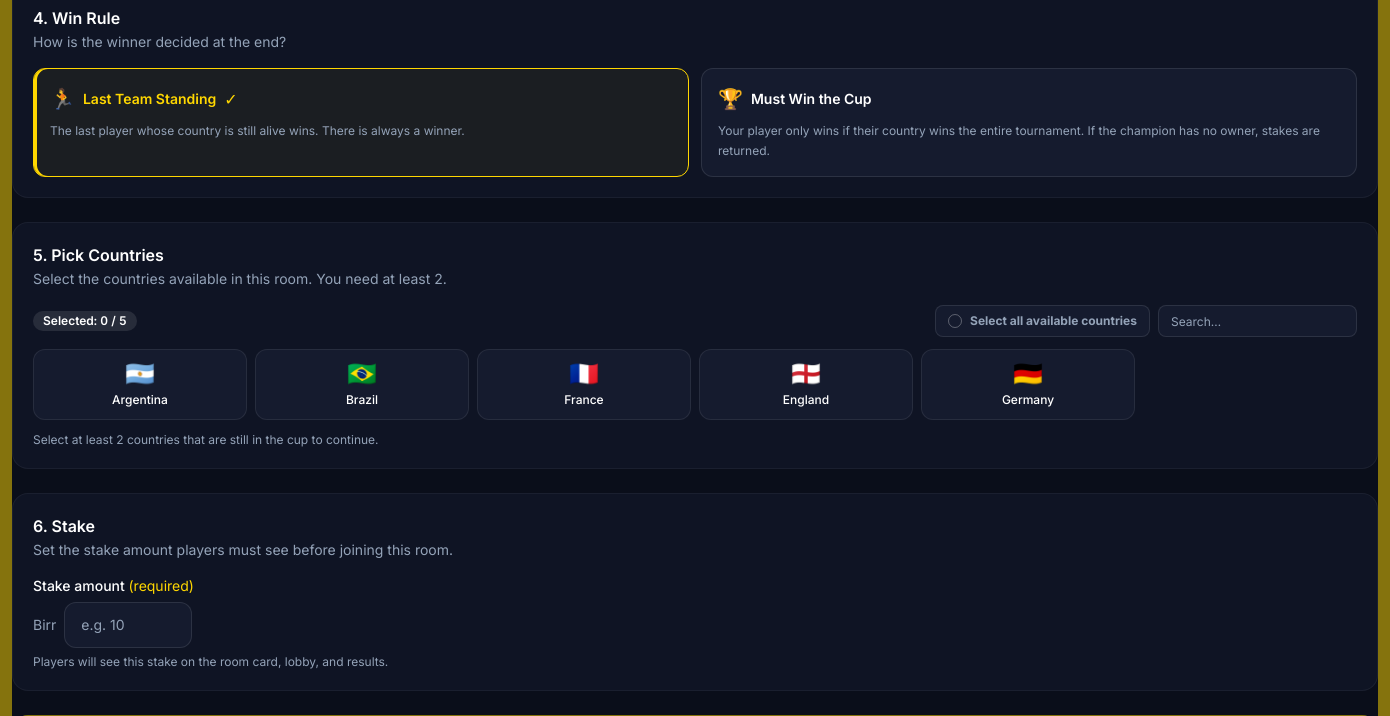
CreateRoomForm › selecting and deselecting a country updates the counter
(page scrolled)
Click the checkbox with test id "country-card-ARG" at {"x": 140, "y": 384}, box [33, 349, 247, 420]
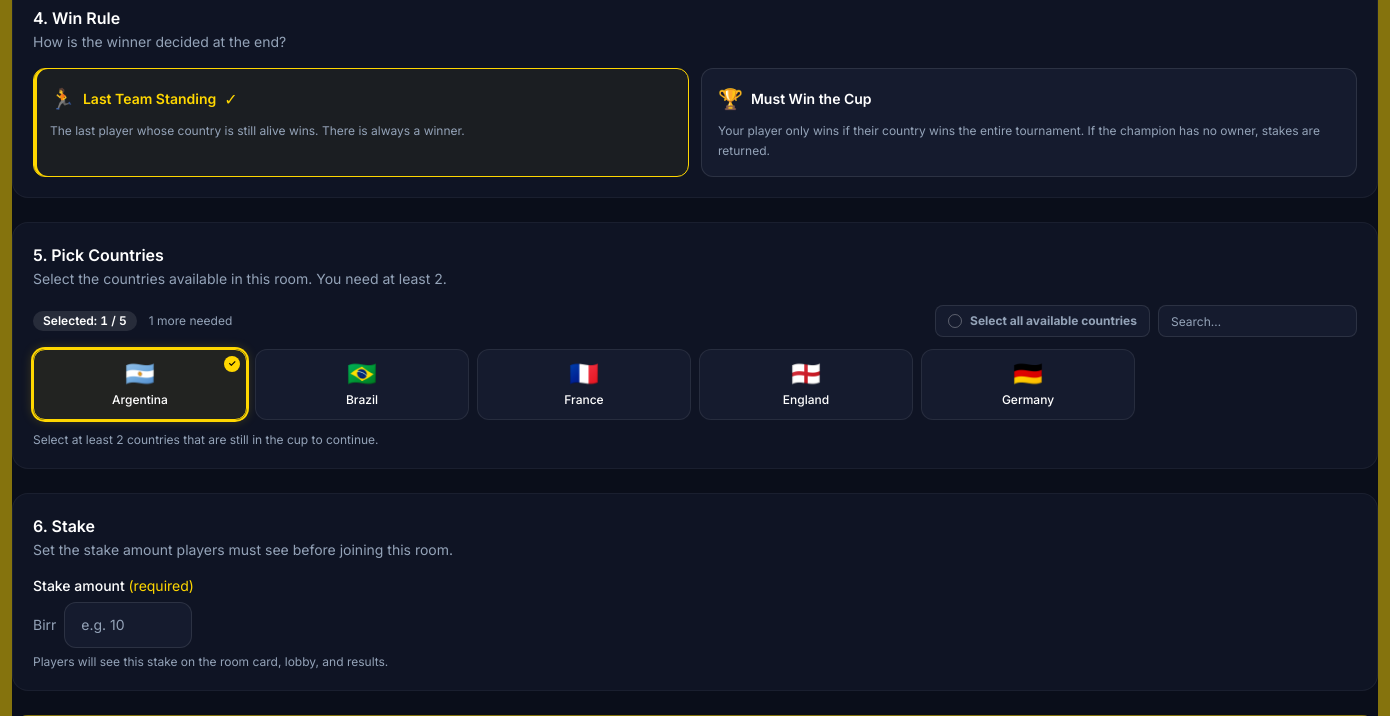
Result: the text "Selected: 1 / 5" is shown at [33, 311, 137, 331]
Click the checkbox with test id "country-card-ARG" at {"x": 140, "y": 384}, box [33, 349, 247, 420]
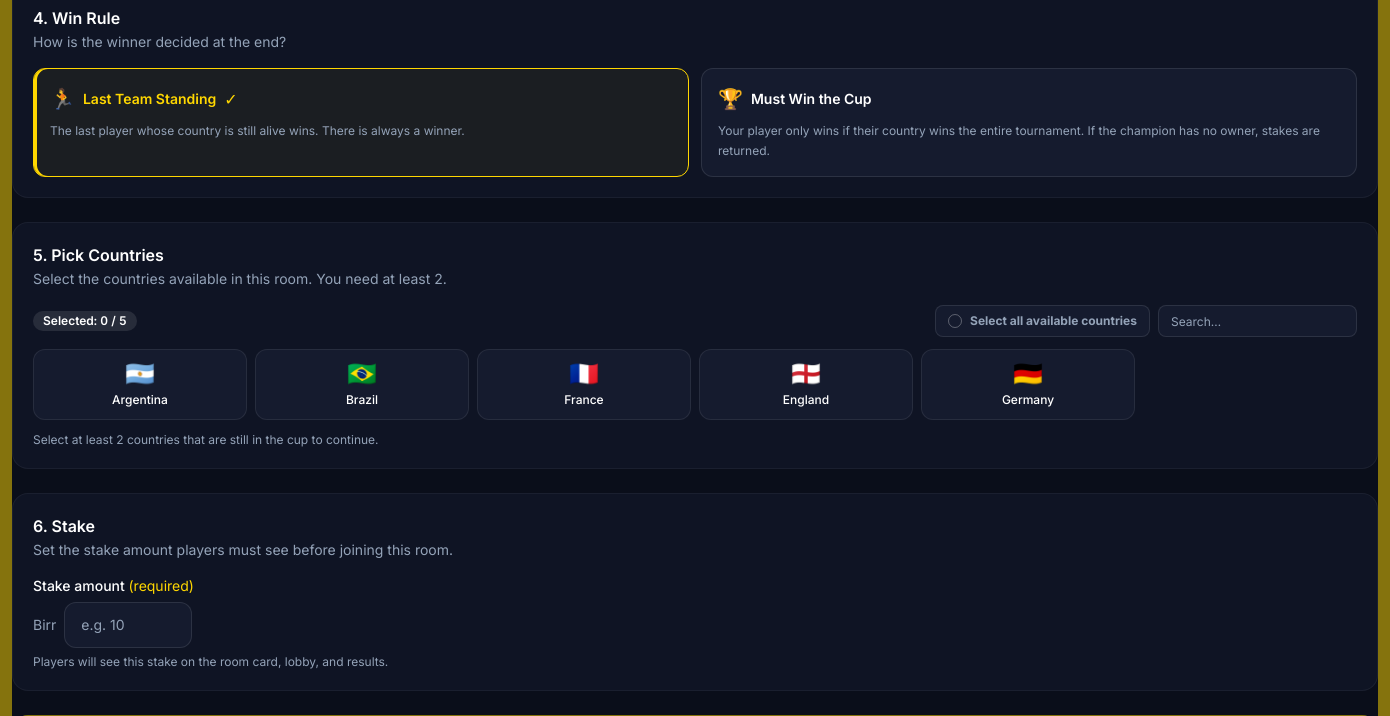
Result: the text "Selected: 0 / 5" is shown at [33, 311, 137, 331]
